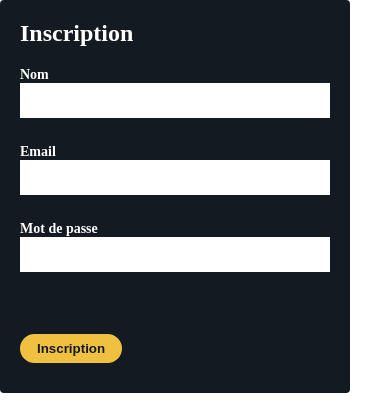
SignUp › should name be too long and password be too short
The image size is (367, 410).
Type "too-long-name-input-for-user" into the field with test id "signup-name-input" at coordinates (175, 100), box [20,83,330,118]
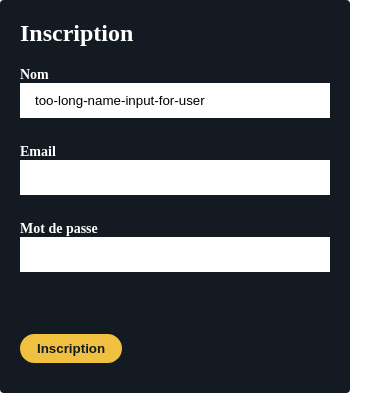
Type "johnDoe@gmail.com" into the field with test id "signup-email-input" at coordinates (175, 178), box [20,160,330,195]
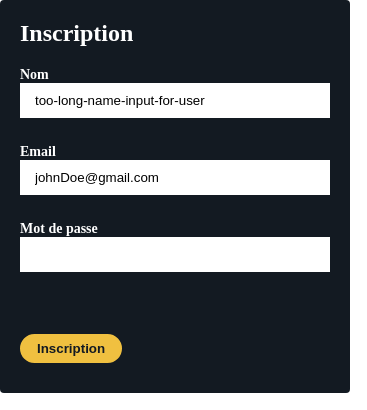
Type "short" into the password field with test id "signup-password-input" at coordinates (175, 254), box [20,237,330,272]
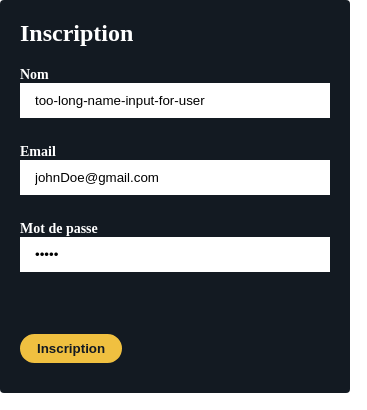
Click the button "Inscription" at coordinates (71, 348), box [20,334,122,363]
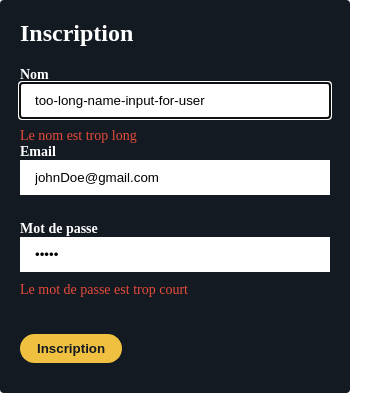
Now the text "Le nom est trop long" is shown, box [20,128,137,143]
Now the text "Le mot de passe est trop court" is shown, box [20,282,188,297]
